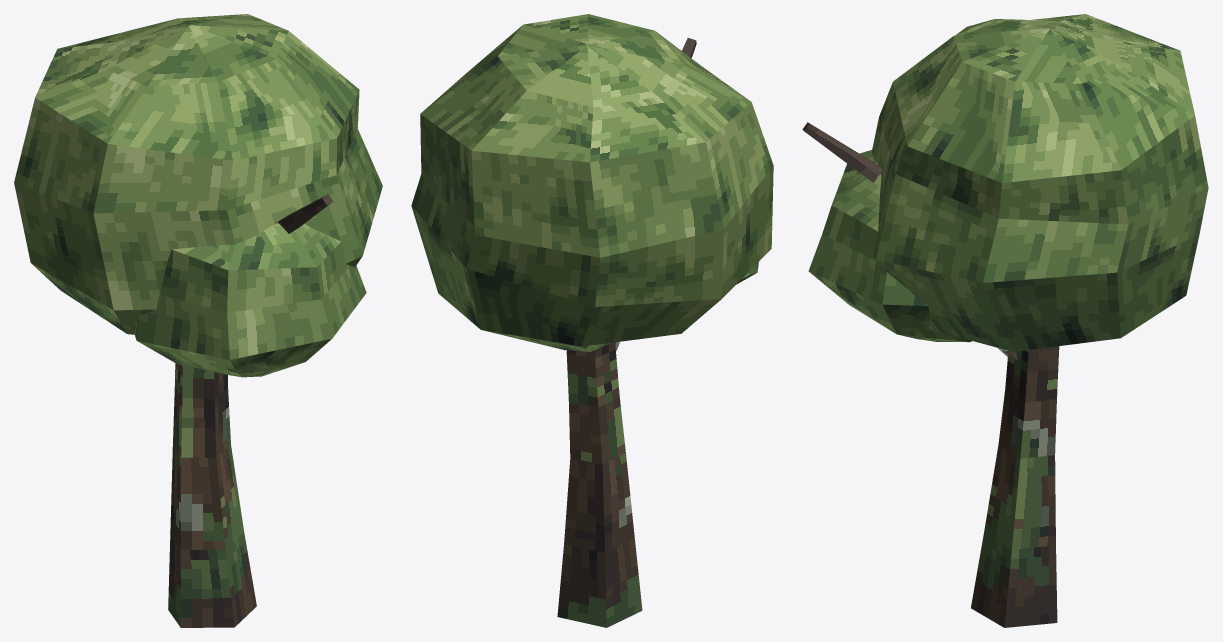
File: sapling.glb
3 views of the same model, side by side, from view 1: azimuth 30°, elevation 25°; view 2: azimuth 150°, elevation 25°; view 3: azimuth 270°, elevation 25° (orthographic).
Visible parts, largest first — view 1: crown_4, crown_5, trunk_1, twig_3; view 2: crown_4, trunk_1; view 3: crown_4, trunk_1, crown_5, twig_3.
Boxes of the visible parts, box(x1,y1,x2,y2) form: crown_4: box(14, 14, 382, 334); crown_5: box(132, 223, 366, 377); trunk_1: box(168, 363, 256, 627); twig_3: box(278, 194, 333, 233); crown_4: box(411, 14, 773, 351); trunk_1: box(557, 342, 642, 627); crown_4: box(872, 14, 1208, 351); trunk_1: box(971, 346, 1059, 627); crown_5: box(808, 150, 971, 342); twig_3: box(802, 122, 881, 182).
Size of the model in its own units: 17.88 by 31.37 by 19.81.
1 material, 1 textured.
